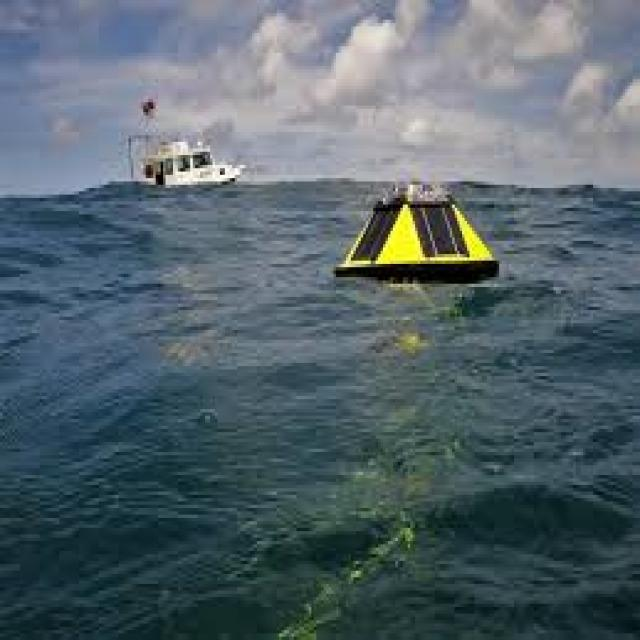marque: (330, 163, 503, 288)
